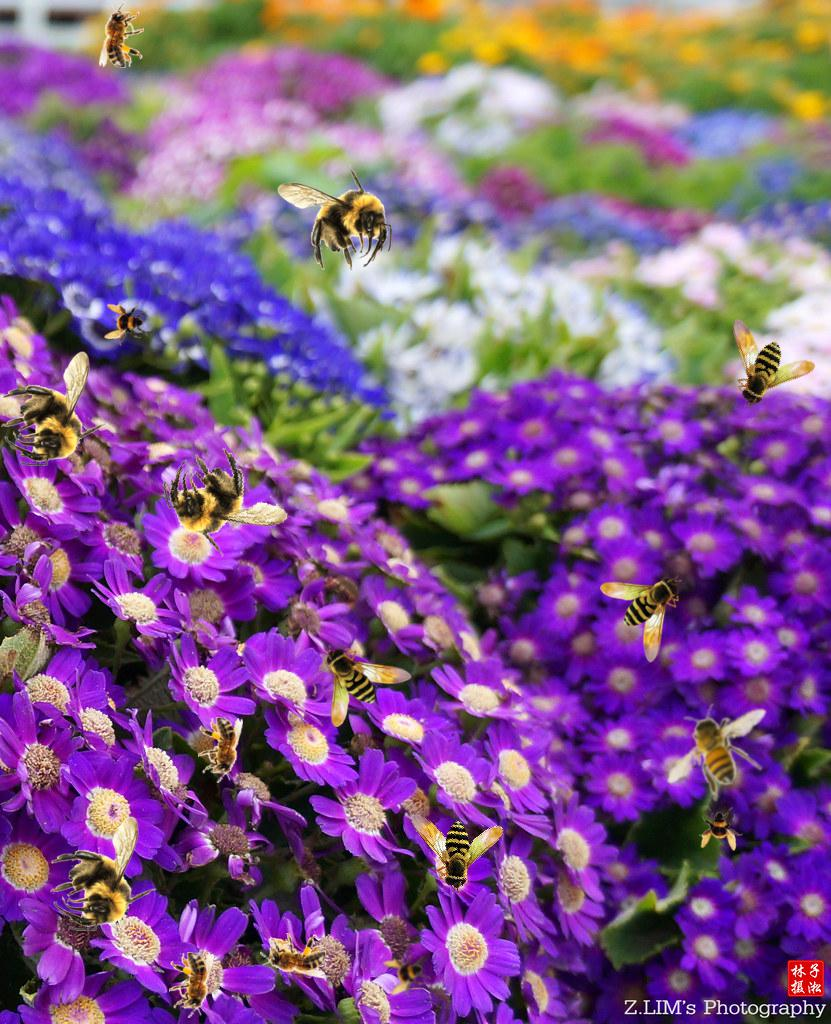Bee: (652, 676, 789, 820), (156, 435, 295, 568), (390, 777, 512, 897), (707, 296, 821, 412), (1, 351, 108, 466), (50, 816, 157, 931), (277, 164, 392, 271), (600, 575, 682, 663), (324, 645, 412, 727), (379, 947, 435, 1003), (99, 2, 144, 68), (260, 933, 326, 978), (198, 717, 243, 783), (169, 952, 214, 1018), (104, 302, 148, 346), (699, 807, 743, 851)
